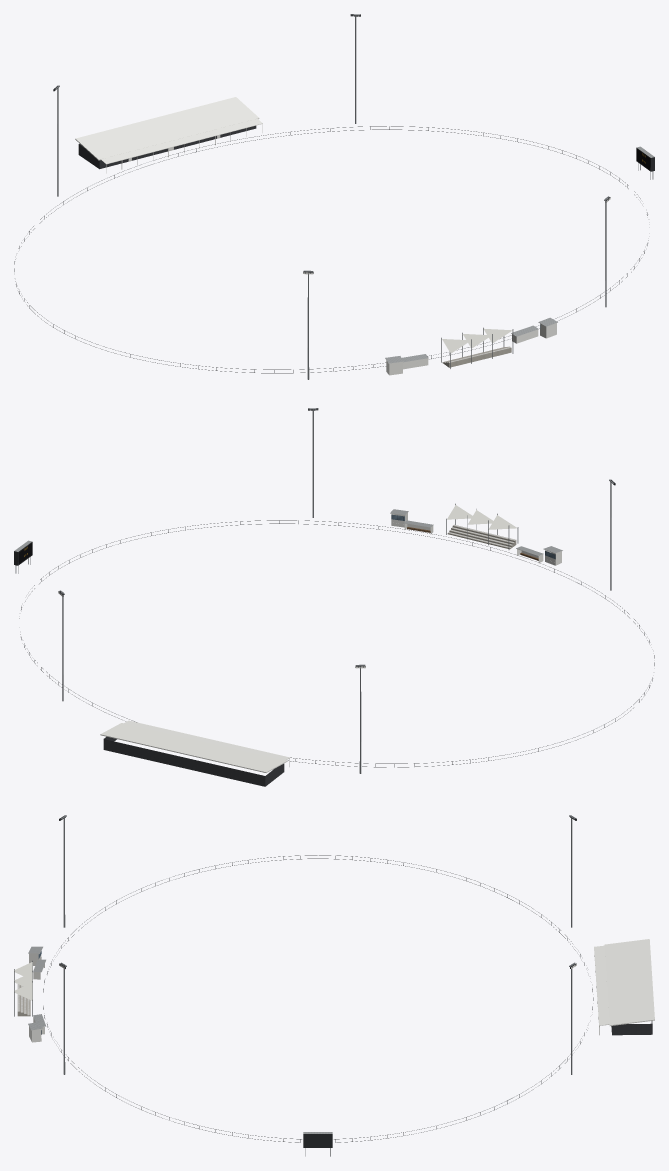
File: oval_t6_north.glb
The picture shows the model from 3 angles, top to bottom: view 1: azimuth 30°, elevation 25°; view 2: azimuth 150°, elevation 25°; view 3: azimuth 270°, elevation 25°; orthographic projection.
Visible parts, largest first — view 1: buildings, fence_posts, sails, boxes, lights; view 2: buildings, sails, fence_posts, boxes, lights; view 3: buildings, fence_posts, lights, sails, boxes, scoreboard.
Boxes of the visible parts, x1,y1,x2,y2 form: buildings: [75, 97, 262, 173]; fence_posts: [14, 126, 648, 373]; sails: [441, 327, 513, 368]; boxes: [385, 317, 557, 375]; lights: [53, 14, 610, 379]; buildings: [100, 720, 290, 786]; sails: [446, 503, 518, 549]; fence_posts: [19, 520, 654, 767]; boxes: [390, 509, 562, 565]; lights: [58, 408, 615, 773]; buildings: [594, 939, 654, 1035]; fence_posts: [43, 855, 593, 1142]; lights: [59, 815, 576, 1074]; sails: [14, 960, 32, 1016]; boxes: [28, 946, 46, 1042]; scoreboard: [303, 1132, 332, 1156].
Size of what is drawn, in the model's own units: 174 by 30.05 by 158.
13 materials, 13 textured.
